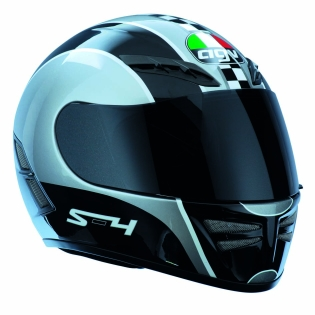helmet: (23, 22, 288, 278)
